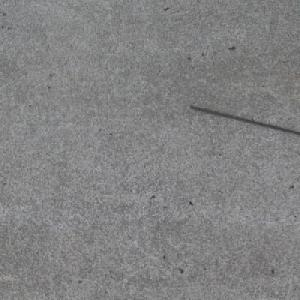LuggagePart: (187, 105, 300, 136)
